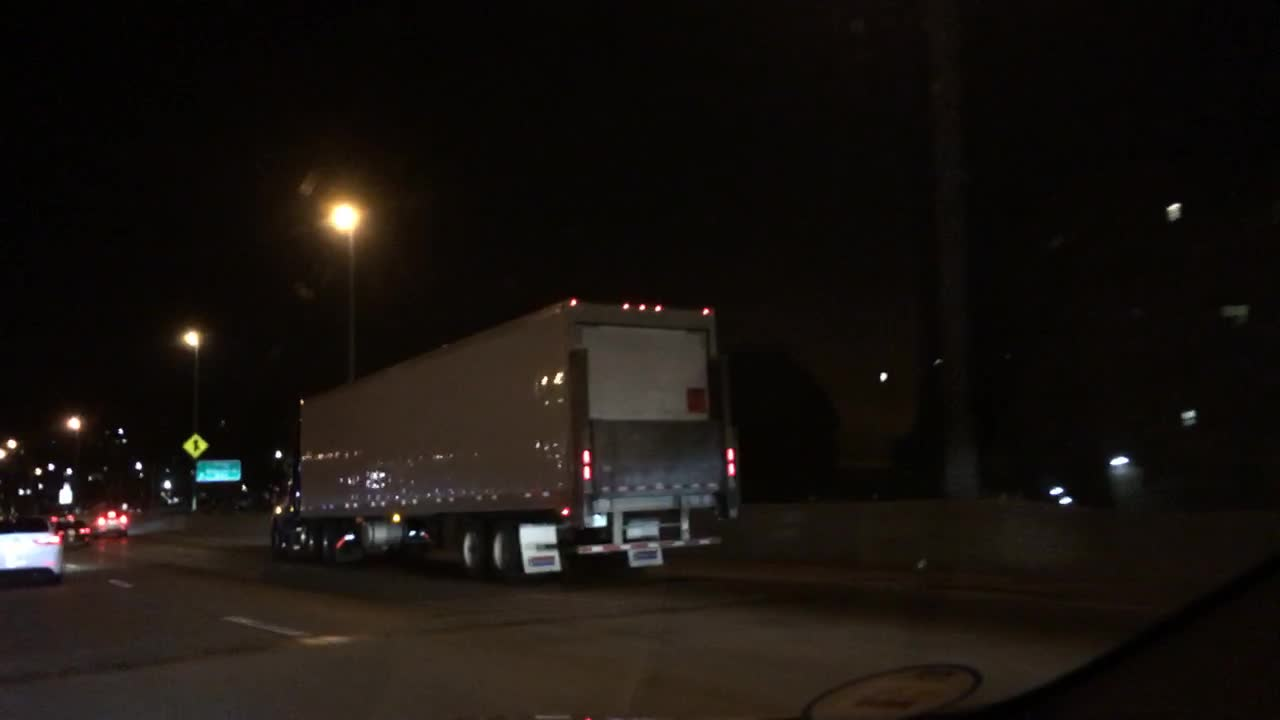car: (0, 512, 65, 585), (48, 509, 93, 549), (92, 503, 129, 534)
traffic sign: (195, 455, 240, 482), (182, 431, 207, 457), (57, 478, 73, 503)
truck: (263, 298, 742, 580)
